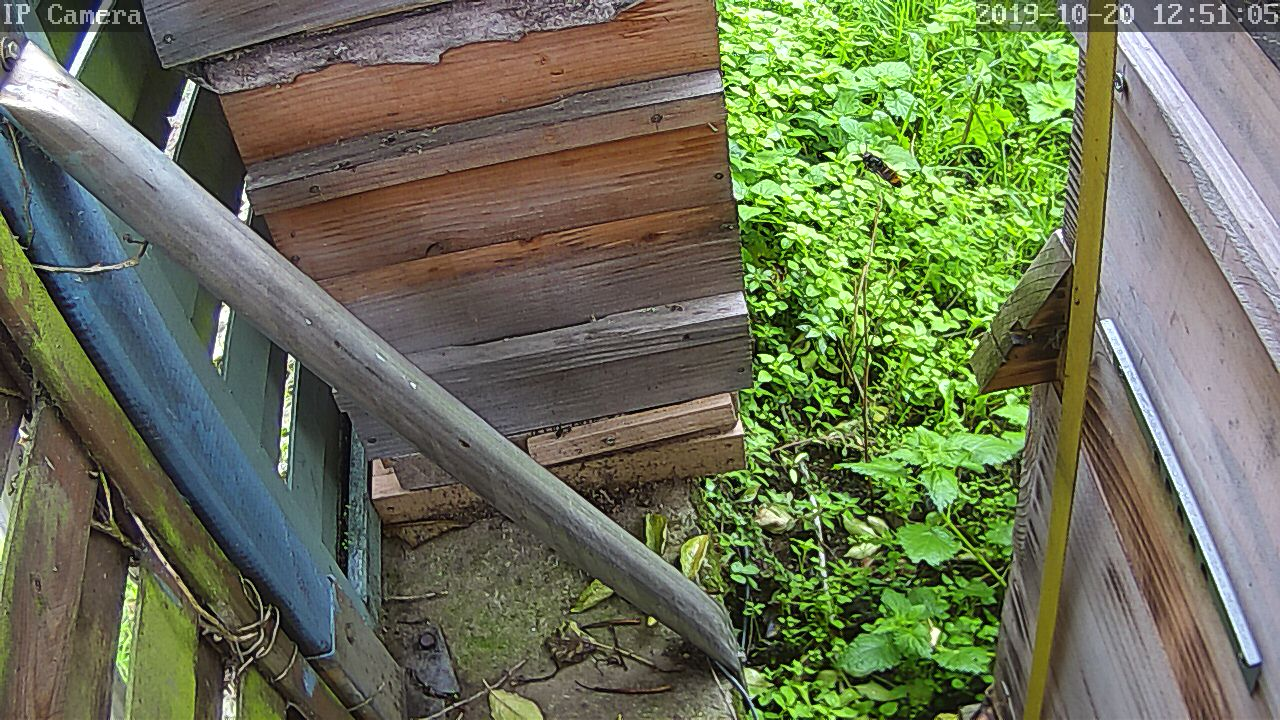hornet: (853, 146, 911, 195)
